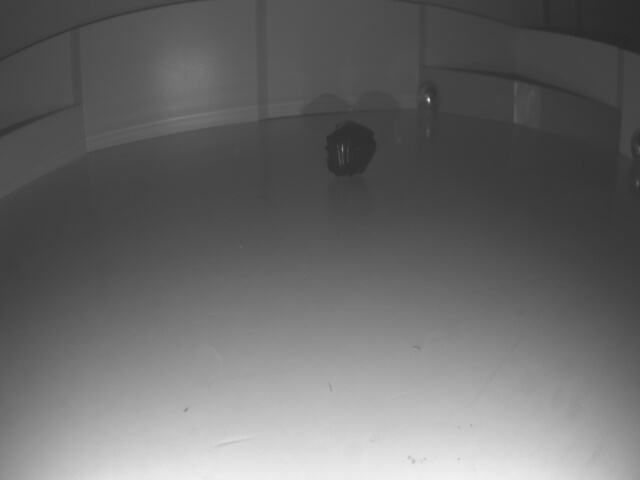Dead: (326, 123, 376, 177)
Live: (415, 83, 443, 115)
Point: (420, 68, 620, 156), (0, 105, 82, 204)
